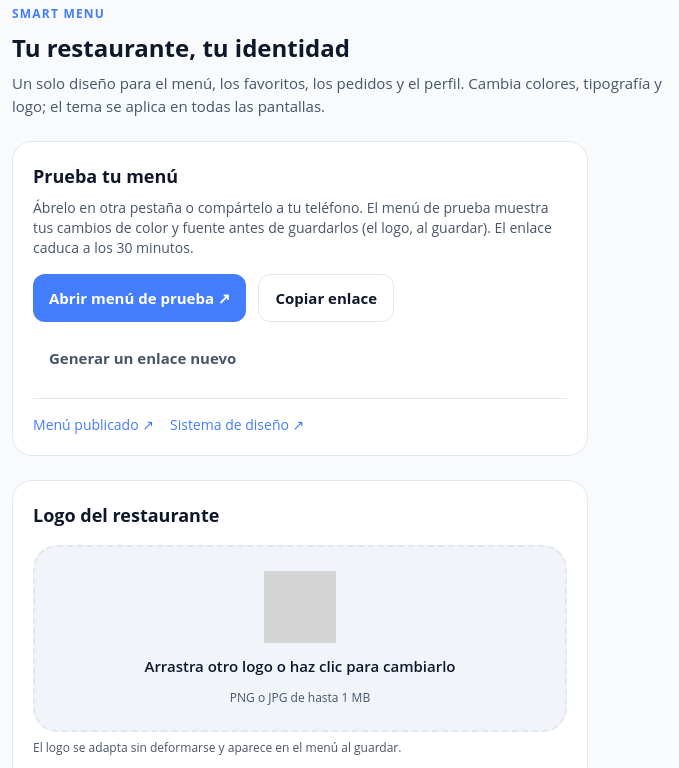
copia el enlace del menú de prueba
The image size is (679, 768).
Check: the link "Abrir menú de prueba ↗" is shown, box x1=33 y1=274 x2=246 y2=322
What coordinates should you click on to do the following:
click the button "Copiar enlace"
I would click on:
 (326, 298)
Its box is x1=258 y1=274 x2=394 y2=322.
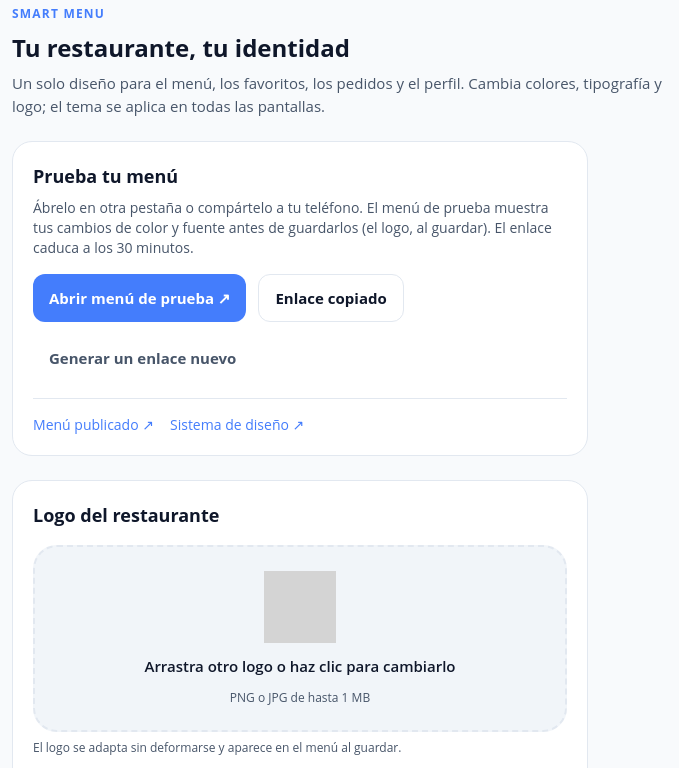
Check: the button "Enlace copiado" is shown, box x1=258 y1=274 x2=404 y2=322
